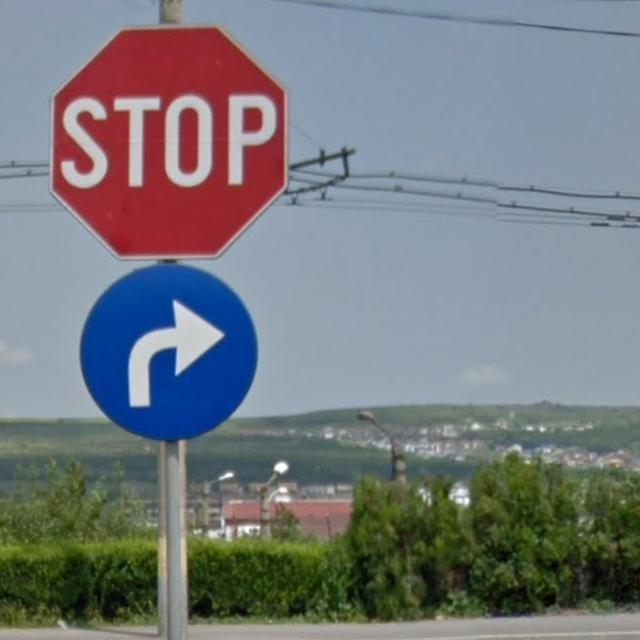prio_stop: (47, 28, 287, 264)
